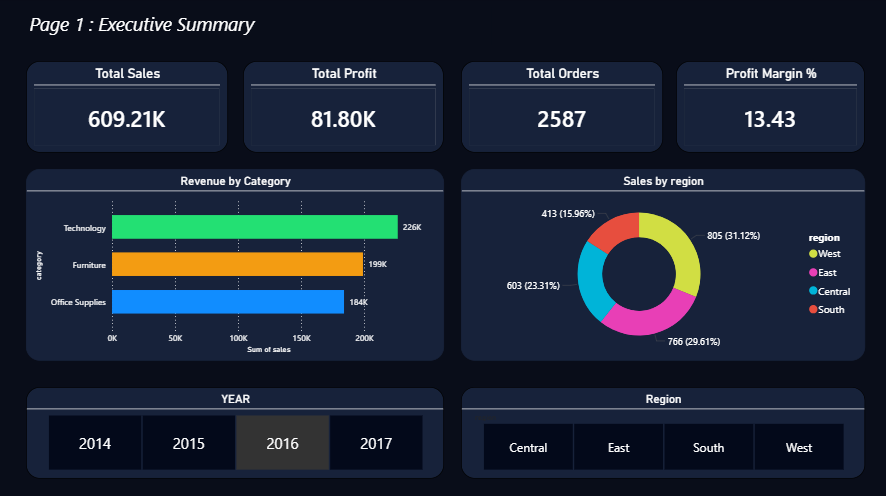

The dashboard page shown, as its layout file describes it:
{"tool":"powerbi","page":{"name":"Executive Summary","canvas":[1280,720],"ordinal":0},"visuals":[{"type":"cardVisual","title":"Total Sales","fields":{"Data":["Sum(public vw_sales_summary.sales)"]},"box":[37.4,90.7,290.9,132.5],"z":0},{"type":"cardVisual","title":"Total Profit","fields":{"Data":["Sum(public vw_sales_summary.profit)"]},"box":[349.9,90.7,289.4,132.5],"z":1000},{"type":"cardVisual","title":"Profit Margin %","fields":{"Data":["public vw_sales_summary.Profit Margin %"]},"box":[973.4,90.7,272.2,132.5],"z":2000},{"type":"cardVisual","title":"Total Orders","fields":{"Data":["CountNonNull(public vw_sales_summary.order_id)"]},"box":[663.8,90.7,290.9,132.5],"z":3000},{"type":"slicer","title":"YEAR","fields":{"Values":["public vw_sales_summary.order_date.Variation.Date Hierarchy.Year"]},"box":[37.4,560.2,601.9,132.5],"z":4000},{"type":"slicer","title":"Region","fields":{"Values":["public vw_sales_summary.region"]},"box":[663.8,560.2,581.8,132.5],"z":5000},{"type":"textbox","box":[37.4,13,669.6,54.7],"z":6000},{"type":"clusteredBarChart","title":"Revenue by Category","fields":{"Category":["public vw_sales_summary.category"],"Y":["Sum(public vw_sales_summary.sales)"]},"box":[37.4,246.2,601.9,276.5],"z":7000},{"type":"donutChart","title":"Sales by region","fields":{"Category":["public vw_sales_summary.region"],"Y":["CountNonNull(public vw_sales_summary.state)"]},"box":[663.8,246.2,581.8,276.5],"z":8000}]}

Visuals, with their boxes in screenshot pixels (x1, y1, x2, y2), scaled from the page's 1280x720 canvas onto the 886x496 screenshot:
"Total Sales" cardVisual: Rect(26, 62, 227, 154)
"Total Profit" cardVisual: Rect(242, 62, 443, 154)
"Profit Margin %" cardVisual: Rect(674, 62, 862, 154)
"Total Orders" cardVisual: Rect(459, 62, 661, 154)
"YEAR" slicer: Rect(26, 386, 443, 477)
"Region" slicer: Rect(459, 386, 862, 477)
textbox: Rect(26, 9, 489, 47)
"Revenue by Category" clusteredBarChart: Rect(26, 170, 443, 360)
"Sales by region" donutChart: Rect(459, 170, 862, 360)
